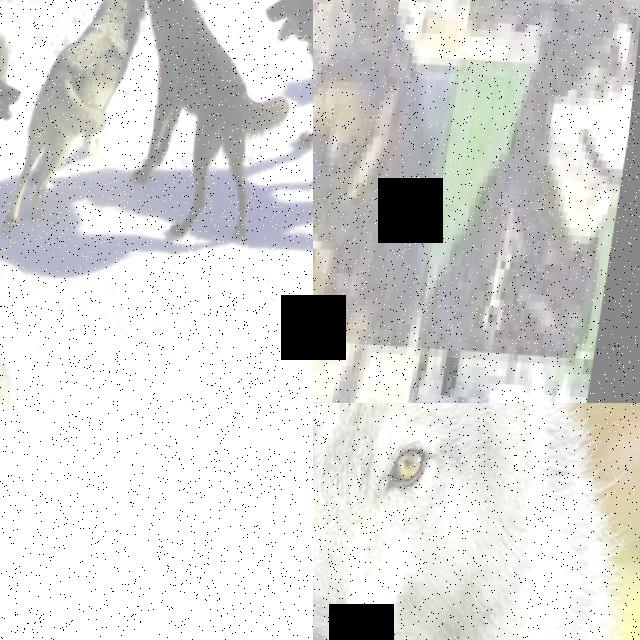dog: (429, 0, 640, 364), (313, 0, 481, 346), (0, 403, 172, 640), (313, 337, 423, 403)
wolf: (313, 403, 640, 640), (93, 0, 313, 292), (0, 0, 157, 263), (231, 0, 313, 242), (0, 0, 40, 278)
